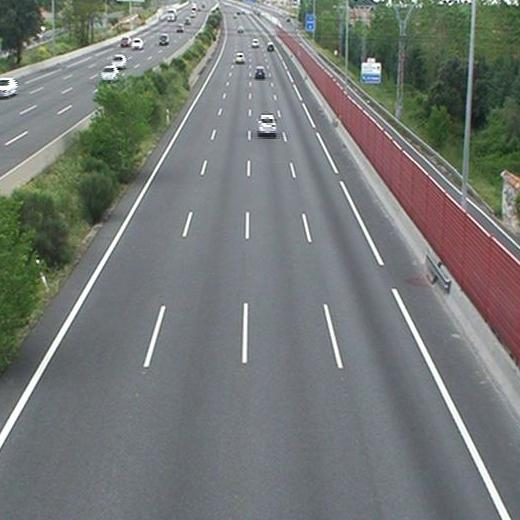car: (257, 115, 276, 135), (234, 53, 244, 63), (254, 67, 263, 77), (266, 43, 274, 51), (252, 39, 259, 48)
